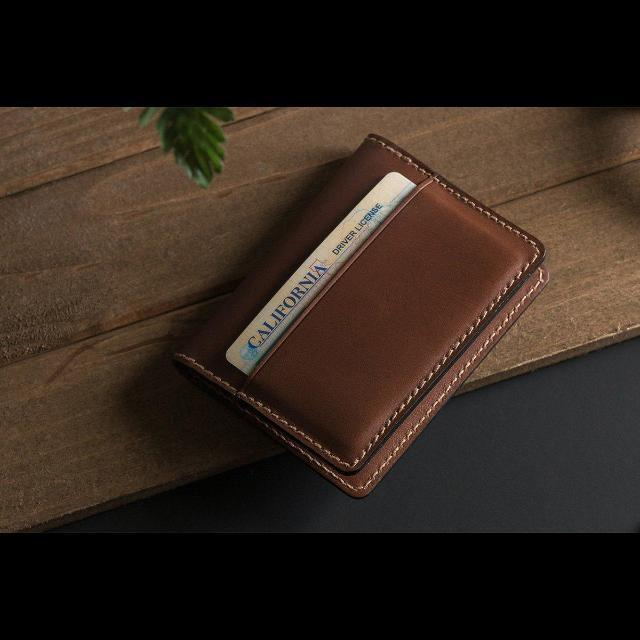wallet: (171, 132, 553, 500)
